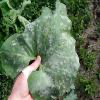Squash Powdery mildew leaf: (3, 0, 79, 97)
